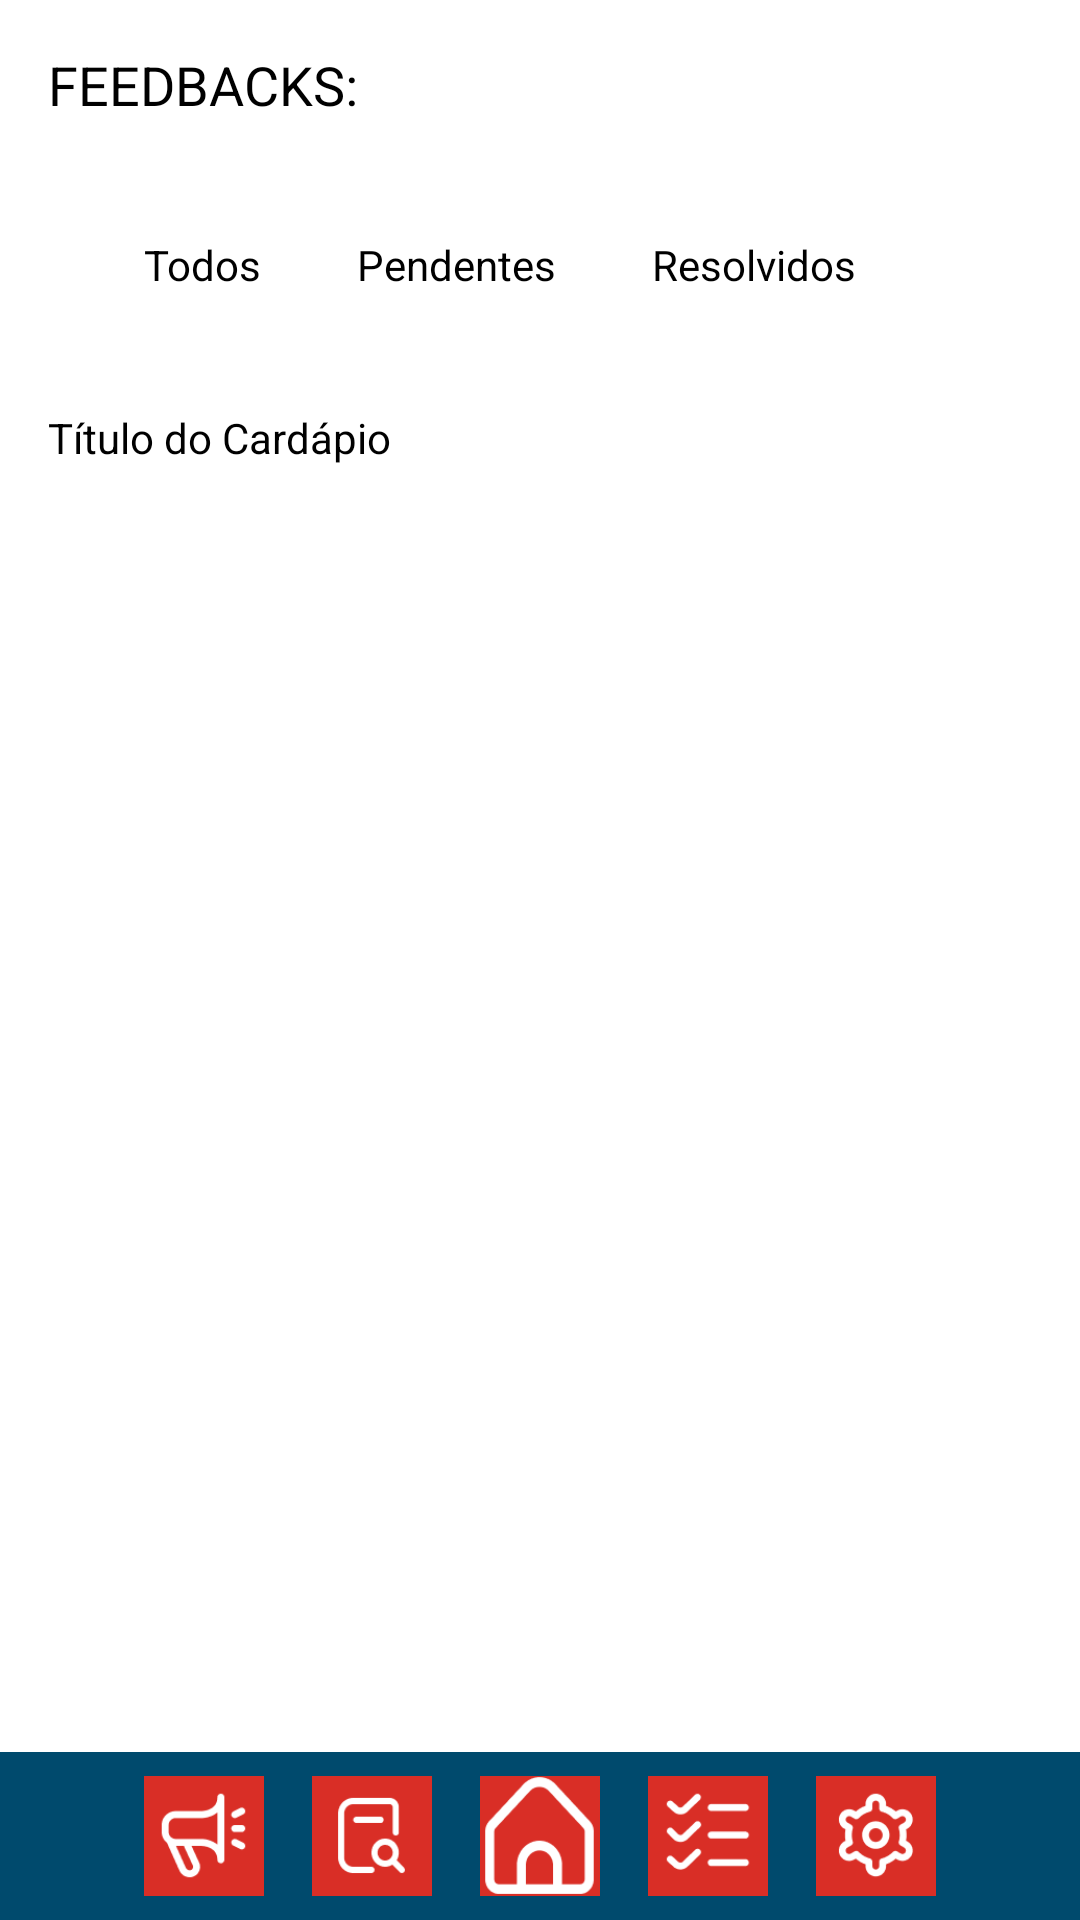

Named icons in this screenshot (1080×1920) and their bounding boxes, detection(x1, y1, x2, y2):
feedback: detection(144, 1776, 264, 1896)
home: detection(480, 1776, 600, 1896)
lista afazeres: detection(648, 1776, 768, 1896)
